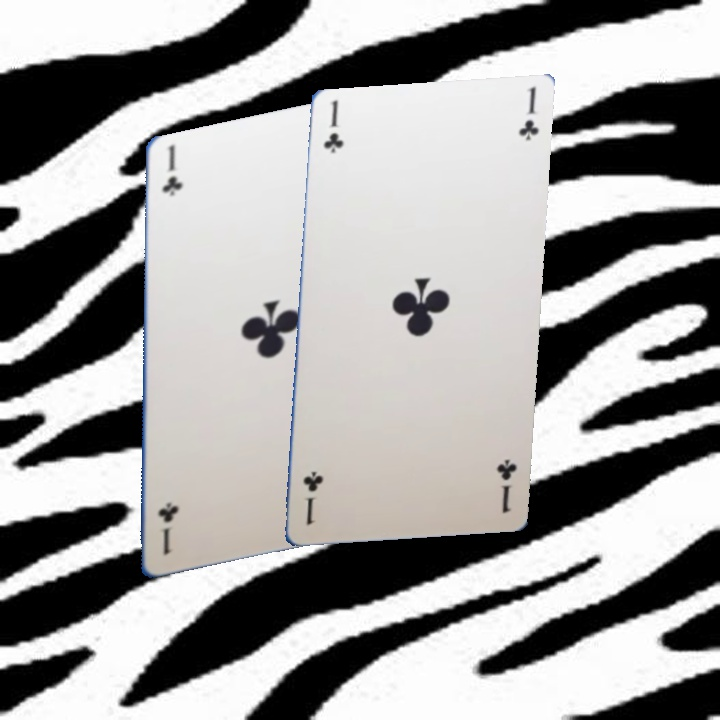1c: (492, 456, 521, 523), (318, 98, 347, 164), (515, 85, 544, 151), (295, 470, 324, 536), (157, 141, 184, 209), (152, 500, 179, 567)
